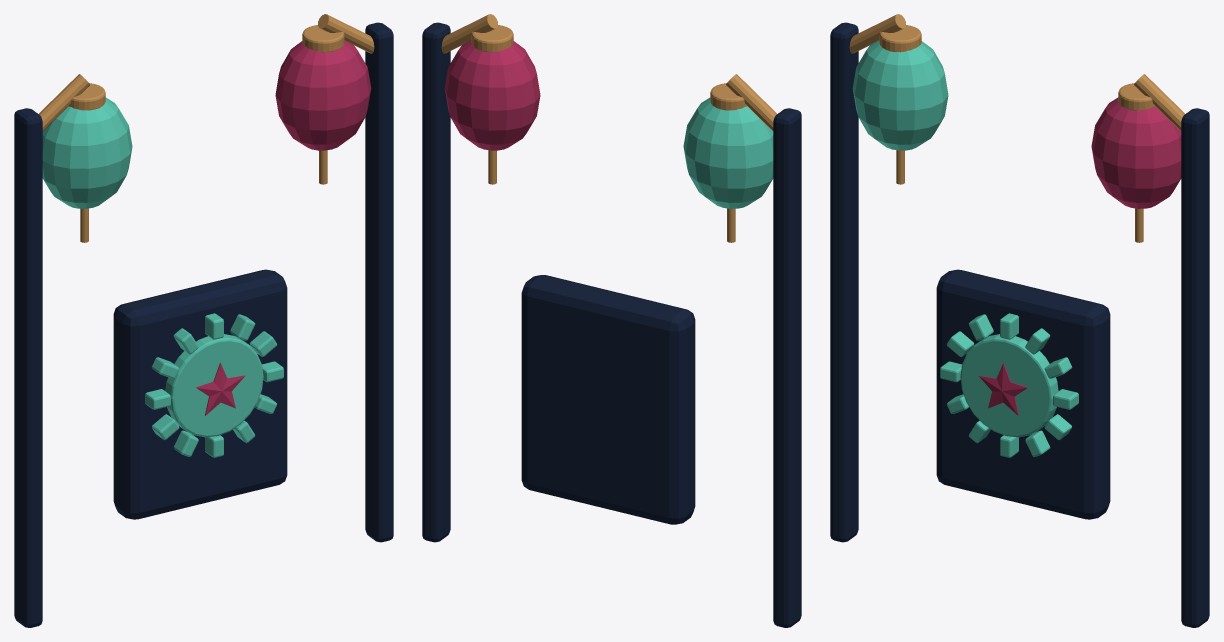
File: Region_arcade.fbx
3 renders of one model, left to right at view 1: azimuth 30°, elevation 25°; view 2: azimuth 150°, elevation 25°; view 3: azimuth 330°, elevation 25°, orthographic.
Visible parts, largest first — view 1: Region_arcade.Mesh; view 2: Region_arcade.Mesh; view 3: Region_arcade.Mesh.
Part boxes in pixels (x1=…): Region_arcade.Mesh: x1=14, y1=14, x2=393, y2=627; Region_arcade.Mesh: x1=422, y1=14, x2=801, y2=627; Region_arcade.Mesh: x1=830, y1=14, x2=1209, y2=627.
Bounding box in the file's own units: 242 × 336 × 50.
